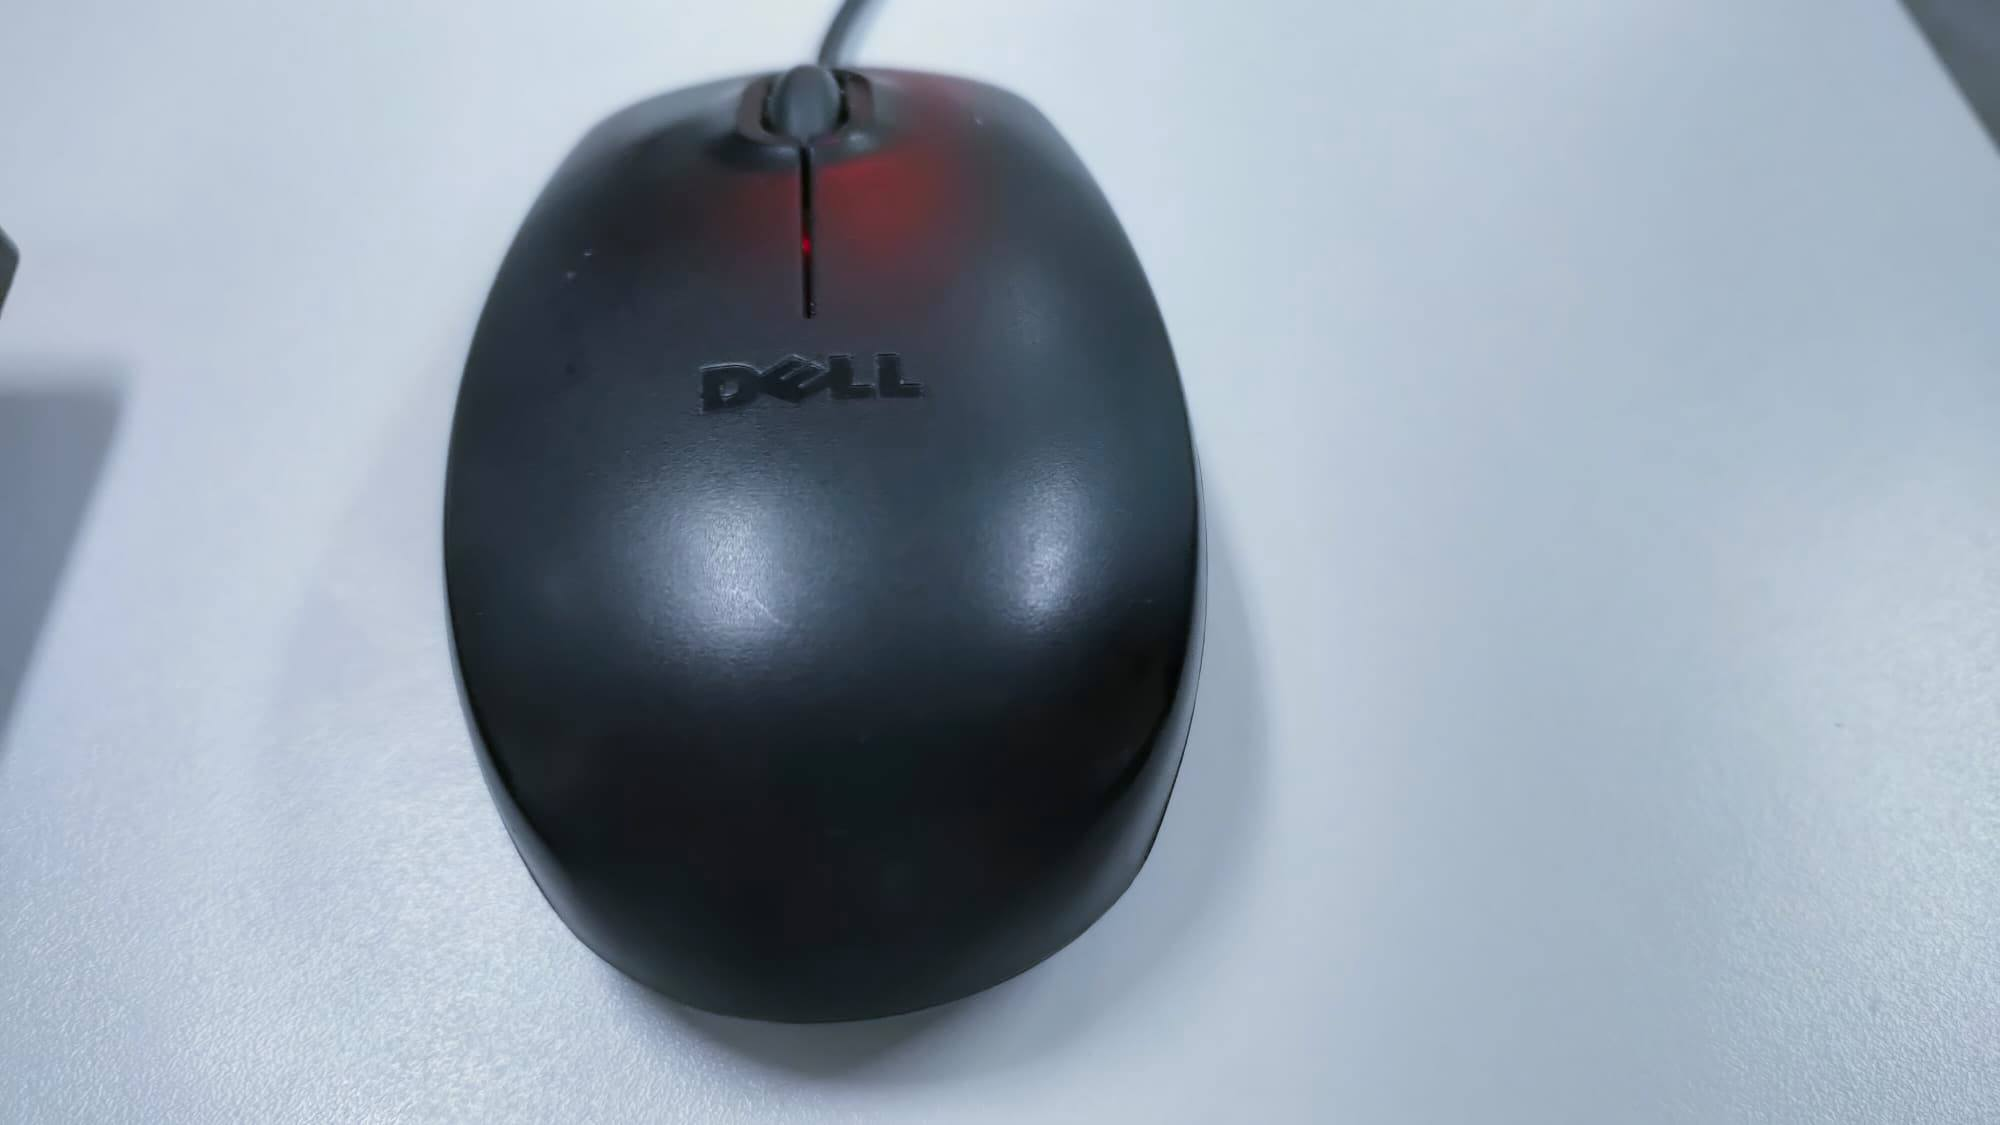mouse: (402, 34, 1247, 1045)
